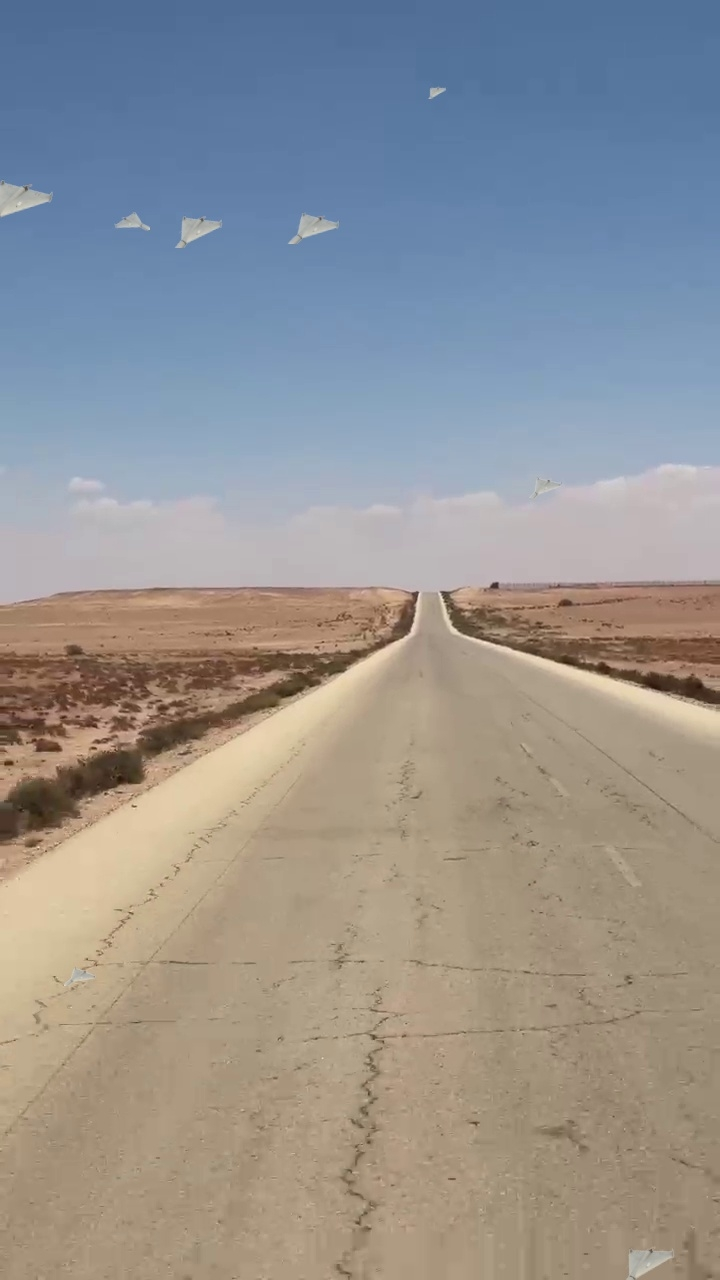shahed: (0, 178, 53, 224), (612, 1244, 678, 1280), (166, 214, 224, 248), (284, 212, 340, 244), (527, 476, 563, 498), (115, 213, 151, 233), (63, 968, 95, 986), (424, 86, 446, 98)
